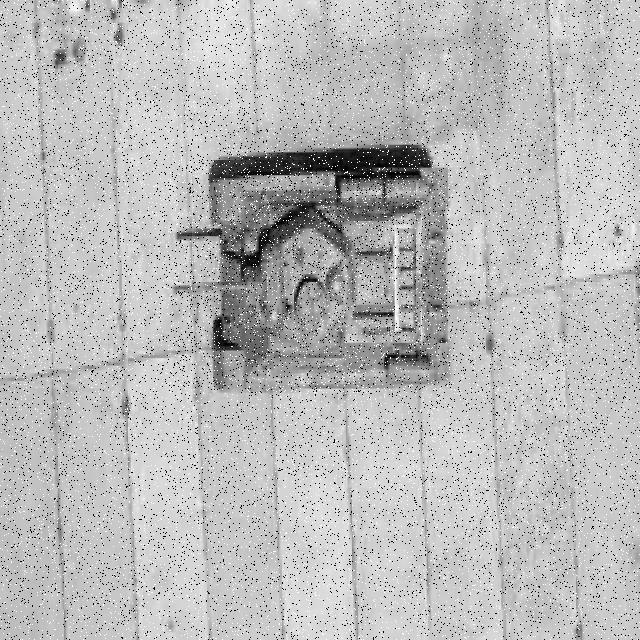MIL_MBT: (170, 159, 452, 393)
